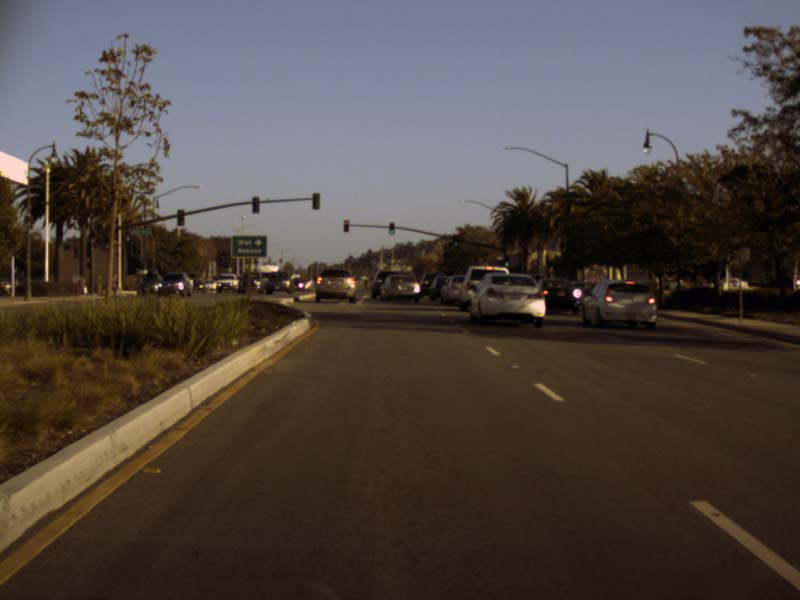Green: (389, 221, 394, 234), (503, 256, 509, 266), (453, 235, 458, 246)
Red: (343, 219, 348, 232)
